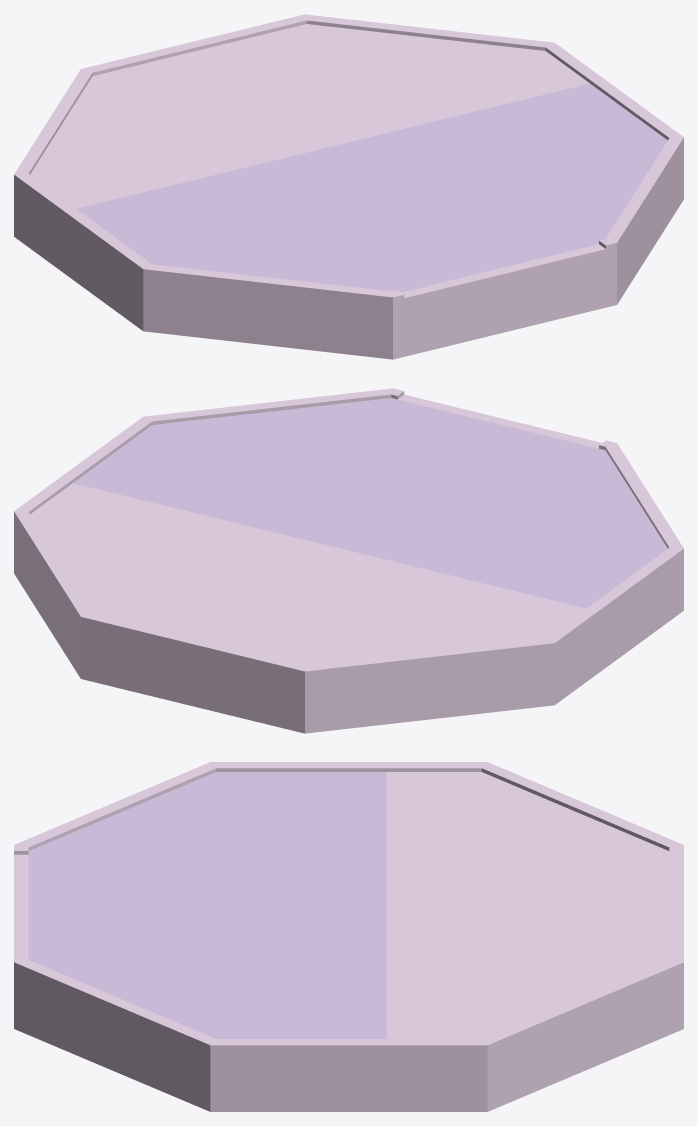
File: road_light purple_final.fbx
The picture shows the model from 3 angles, top to bottom: view 1: azimuth 30°, elevation 25°; view 2: azimuth 150°, elevation 25°; view 3: azimuth 270°, elevation 25°; orthographic projection. The views are drawn at different scales.
Visible parts, largest first — view 1: road_light purple_final; view 2: road_light purple_final; view 3: road_light purple_final.
Part boxes in pixels (left/top/right/bottom): road_light purple_final: left=14, top=14, right=683, bottom=359; road_light purple_final: left=14, top=388, right=683, bottom=733; road_light purple_final: left=14, top=762, right=683, bottom=1111.
Size of the model in its own units: 4.83 by 0.5304 by 4.83.
